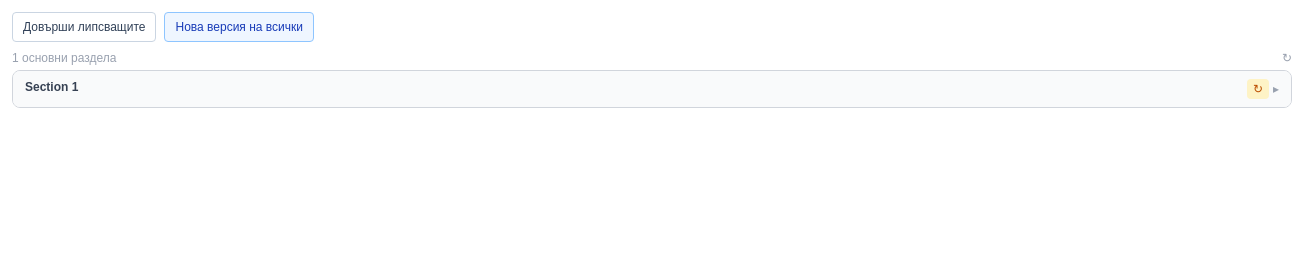
Test: GenerationsPanel › renders a section and expands its selected text
Click the button "Section 1".
click(52, 87)  # box [25,79,1247,95]
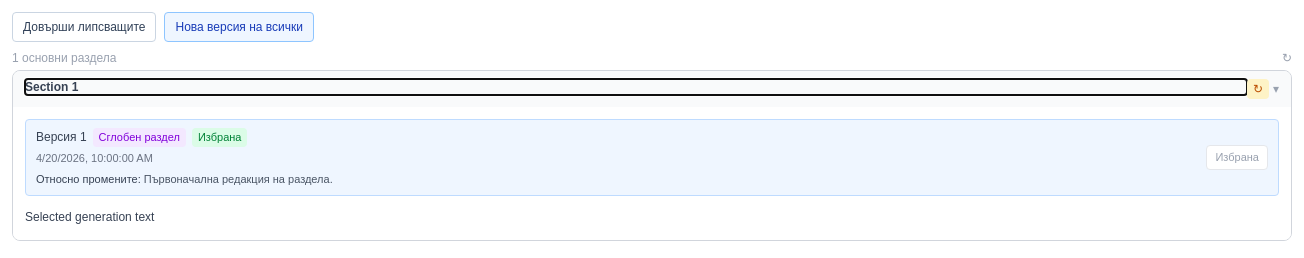
Result: the text "Selected generation text" is shown at [25,210,154,224]
Result: the text "Версия 1" is shown at [36,129,87,145]
Result: the text "Сглобен раздел" is shown at [93,128,186,147]
